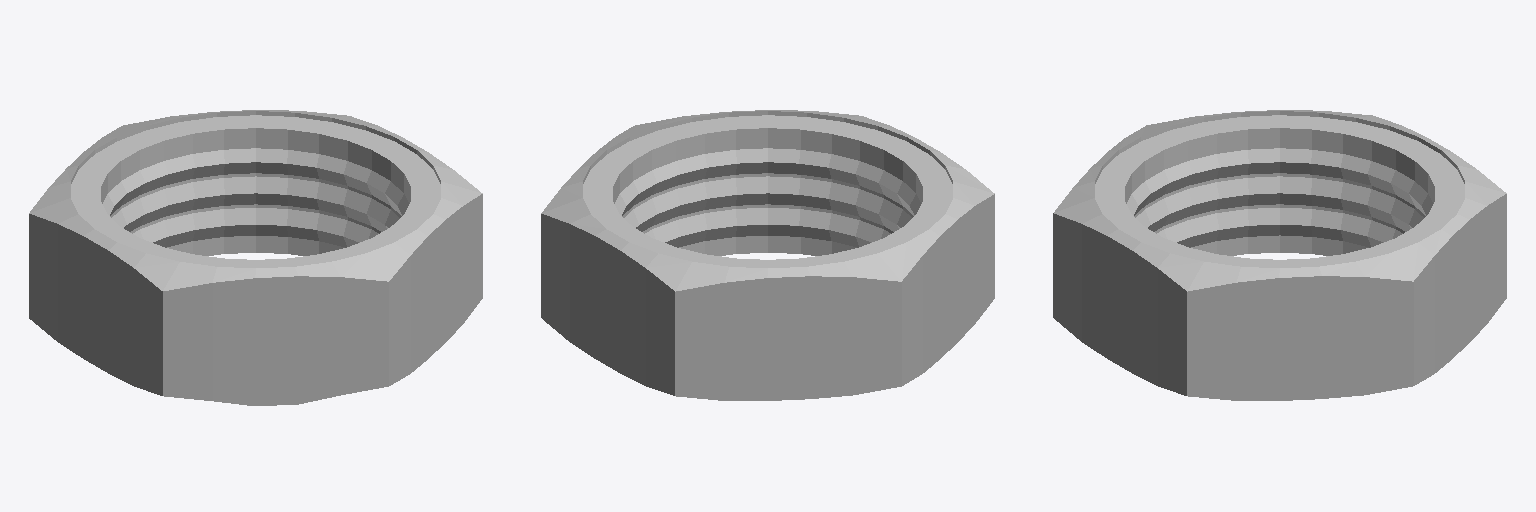
Rendered from Screw.obj.
3 views of the same model, side by side, from view 1: azimuth 30°, elevation 25°; view 2: azimuth 150°, elevation 25°; view 3: azimuth 270°, elevation 25° (orthographic).
Visible parts, largest first — view 1: default; view 2: default; view 3: default.
Boxes of the visible parts, box(x1,y1,x2,y2) form: default: box(29, 110, 482, 405); default: box(541, 110, 994, 400); default: box(1053, 110, 1506, 400).
Size of the model in its own units: 199 by 70 by 217.